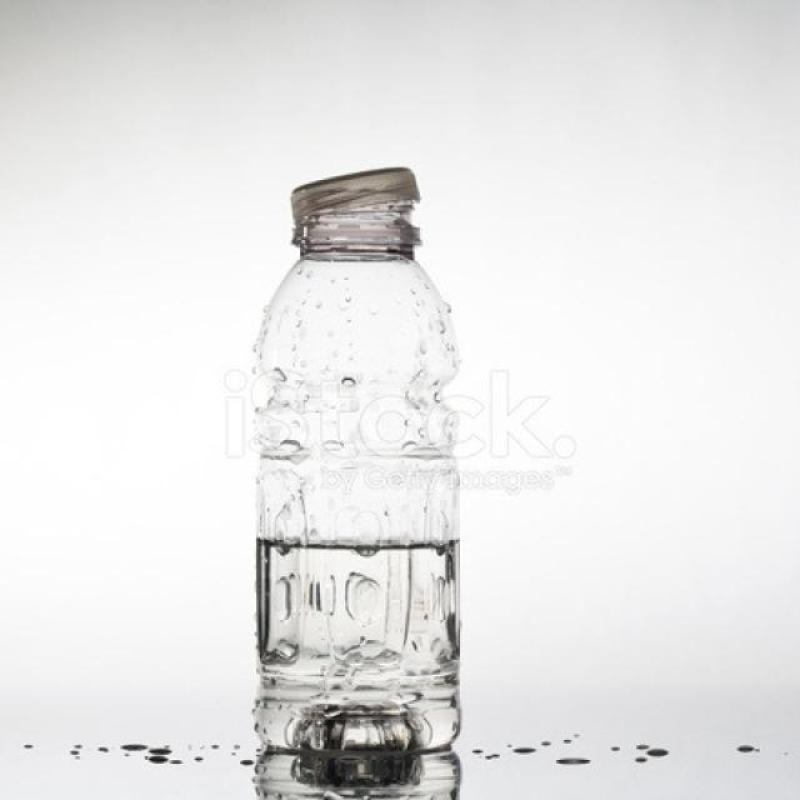botella: (252, 163, 468, 762)
